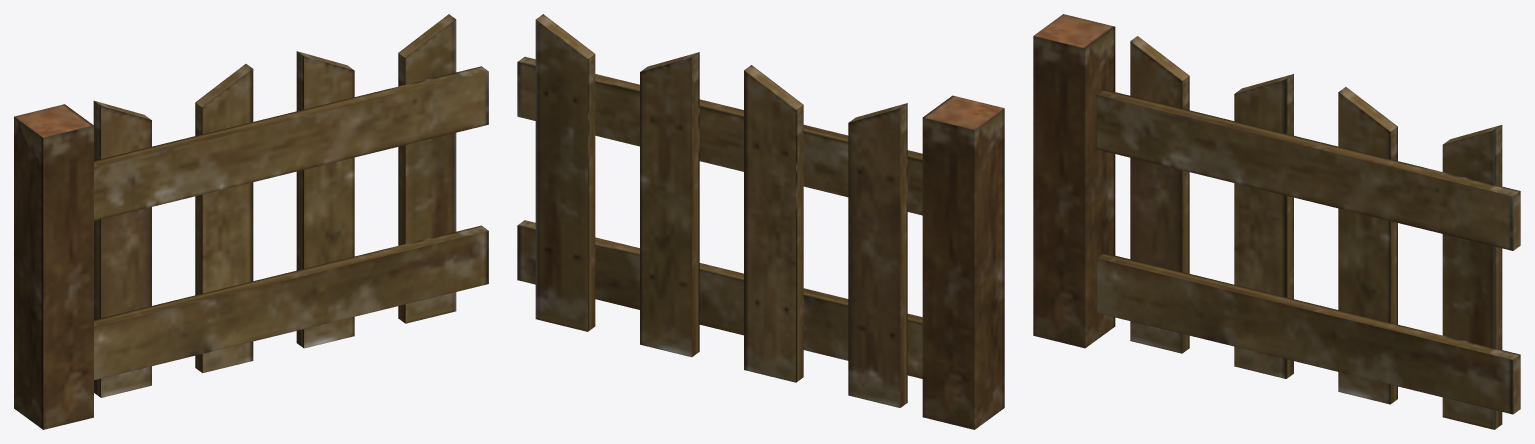
File: Gate.fbx
The picture shows the model from 3 angles, left to right: view 1: azimuth 30°, elevation 25°; view 2: azimuth 150°, elevation 25°; view 3: azimuth 330°, elevation 25°; orthographic projection. The views are drawn at different scales.
Parts seen in each view (by area): view 1: polySurface1; view 2: polySurface1; view 3: polySurface1.
Part boxes in pixels (x1,y1,x2,y2): polySurface1: (14, 14, 488, 429); polySurface1: (517, 14, 1004, 429); polySurface1: (1033, 14, 1520, 429).
Size of the model in its own units: 457 by 279 by 50.8.
